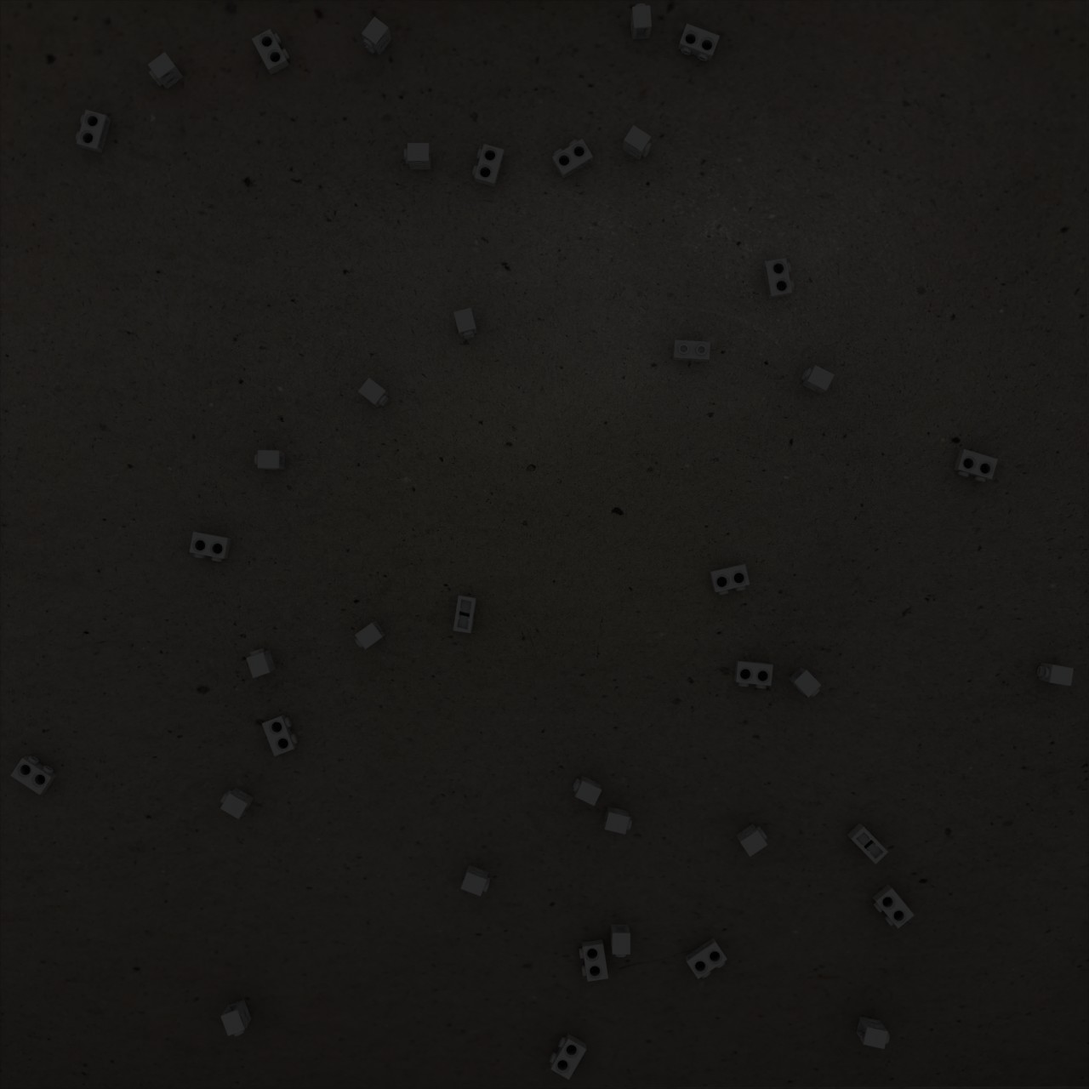lego: (872, 884, 915, 929), (10, 756, 57, 795), (251, 29, 290, 75), (549, 1033, 587, 1080), (685, 937, 727, 979), (847, 823, 888, 864), (552, 139, 593, 179), (678, 23, 720, 61), (76, 109, 111, 154), (262, 714, 298, 757), (953, 449, 998, 482), (472, 144, 505, 188), (147, 52, 184, 90), (763, 258, 794, 299), (709, 564, 750, 595), (189, 532, 231, 562), (579, 939, 608, 982), (361, 16, 392, 56), (220, 999, 252, 1036), (734, 660, 773, 689), (856, 1016, 890, 1049), (220, 787, 254, 819), (622, 125, 652, 161), (736, 824, 768, 857), (788, 667, 822, 698), (801, 365, 835, 394), (358, 377, 389, 408), (453, 595, 477, 633), (246, 648, 276, 678), (461, 865, 490, 896), (573, 775, 602, 806), (1037, 662, 1074, 686), (355, 621, 386, 649), (603, 806, 632, 835), (672, 340, 710, 362), (630, 3, 652, 40), (453, 308, 478, 339), (404, 143, 432, 170), (611, 924, 630, 957), (254, 450, 285, 470)
